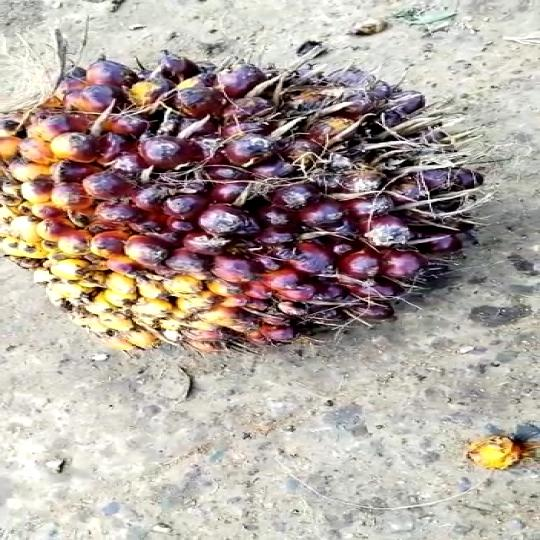kurang masak: (13, 47, 503, 322)
